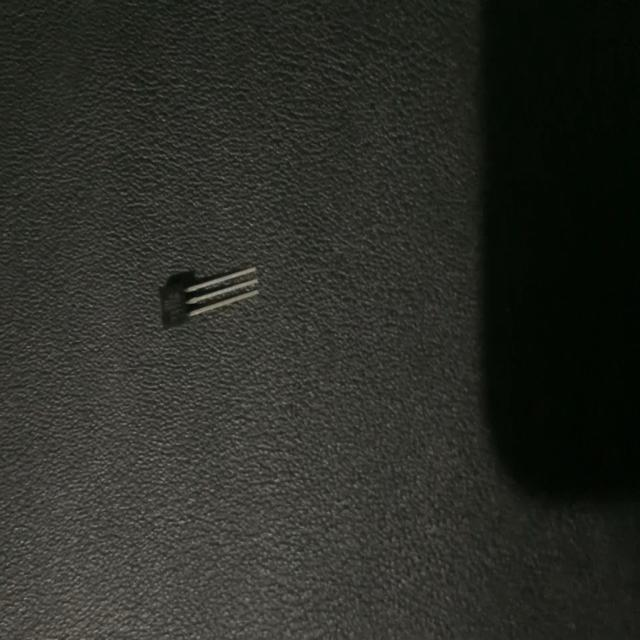BJT: (159, 268, 258, 327)
